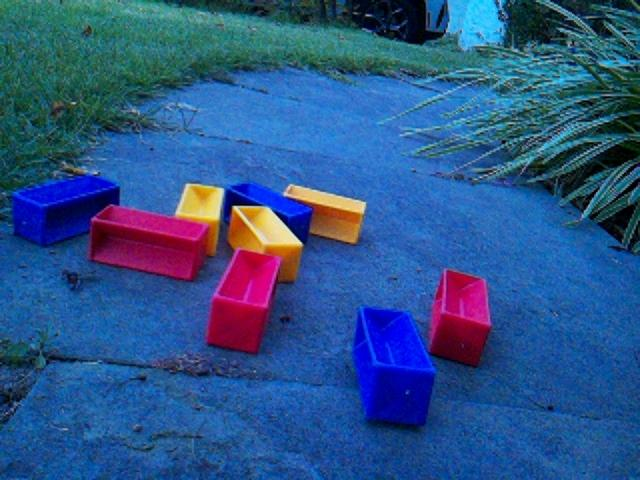blue: (351, 303, 438, 428), (11, 172, 121, 247), (223, 179, 315, 246)
red: (87, 202, 211, 282), (205, 246, 284, 355), (428, 267, 494, 367)
yellow: (227, 204, 304, 284), (283, 182, 368, 246), (174, 181, 225, 257)
